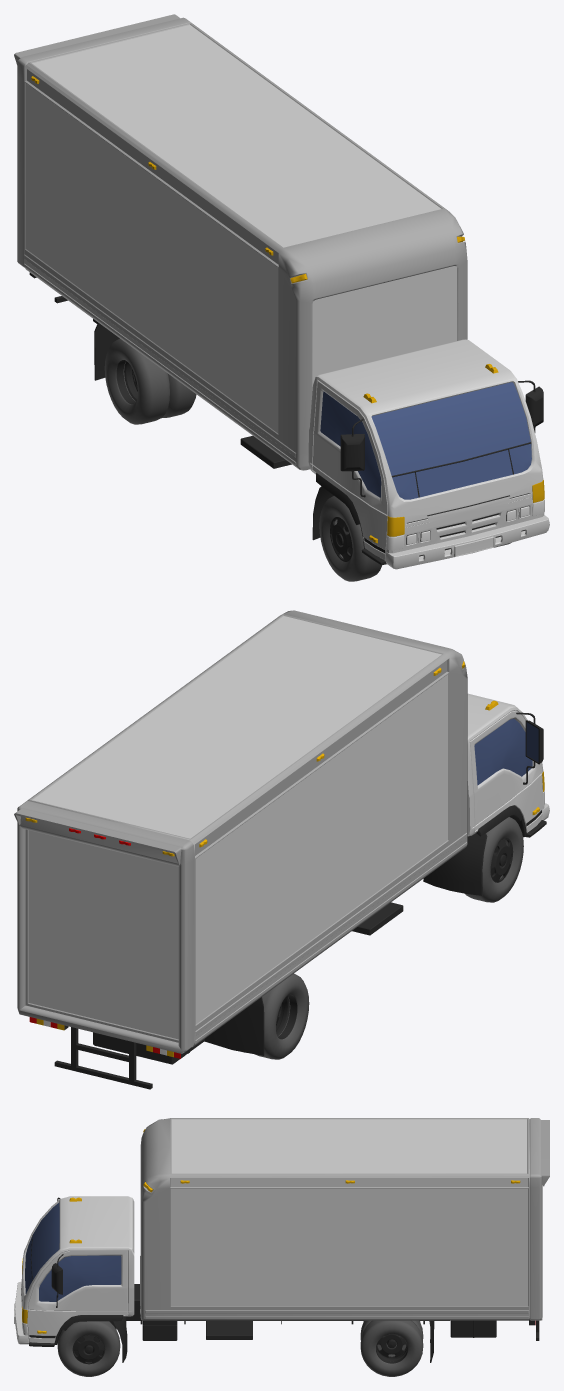
Rendered from BoxTruckModel.fbx.
3 views of the same model, one above another, from view 1: azimuth 30°, elevation 25°; view 2: azimuth 150°, elevation 25°; view 3: azimuth 270°, elevation 25° (orthographic). The views are drawn at different scales.
Visible parts, largest first — view 1: Body, BoxTruckWheelRightRear, BoxTruckWheelRightFront; view 2: Body, BoxTruckWheelRightRear, BoxTruckWheelRightFront; view 3: Body, BoxTruckWheelLeftRear, BoxTruckWheelLeftFront.
Boxes of the visible parts, x1,y1,x2,y2 form: Body: (14,14,549,569); BoxTruckWheelRightRear: (104,338,196,424); BoxTruckWheelRightFront: (319,496,381,581); Body: (14,610,549,1089); BoxTruckWheelRightRear: (244,973,309,1059); BoxTruckWheelRightFront: (465,817,523,902); Body: (14,1118,549,1362); BoxTruckWheelLeftRear: (360,1320,423,1376); BoxTruckWheelLeftFront: (57,1321,120,1376).
Bounding box in the file's own units: 321 × 442 × 1052.
